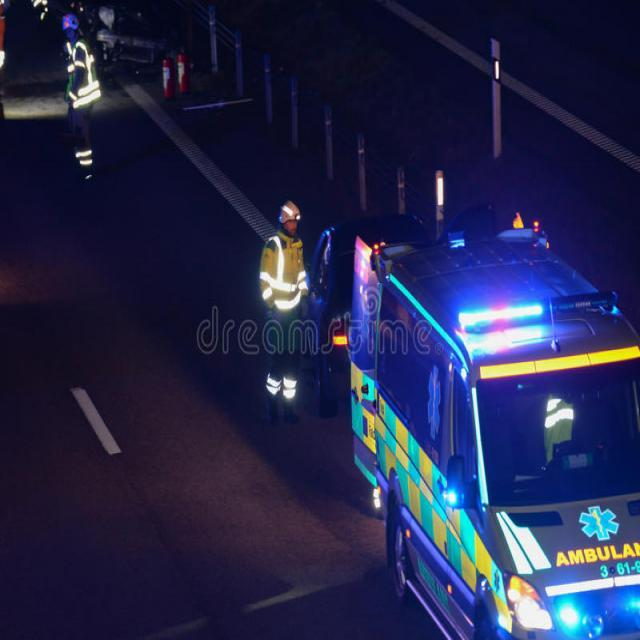emergency-vehicle: (340, 205, 632, 640)
